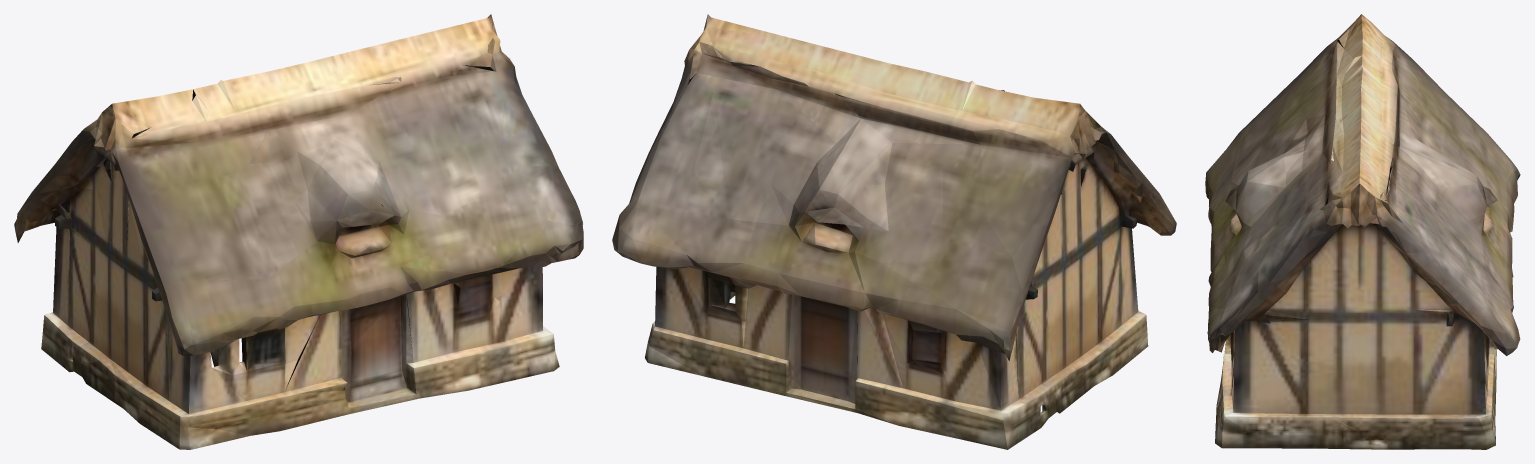
Rendered from ga3_house_lod1.glb.
3 renders of one model, left to right at view 1: azimuth 30°, elevation 25°; view 2: azimuth 150°, elevation 25°; view 3: azimuth 270°, elevation 25°, orthographic. The views are drawn at different scales.
Visible parts, largest first — view 1: ga3_house_lod1; view 2: ga3_house_lod1; view 3: ga3_house_lod1.
Boxes of the visible parts, x1,y1,x2,y2 form: ga3_house_lod1: [14, 14, 583, 449]; ga3_house_lod1: [612, 14, 1176, 449]; ga3_house_lod1: [1205, 14, 1520, 449].
Bounding box in the file's own units: 7.97 × 5.55 × 5.84.
1 material, 1 textured.
